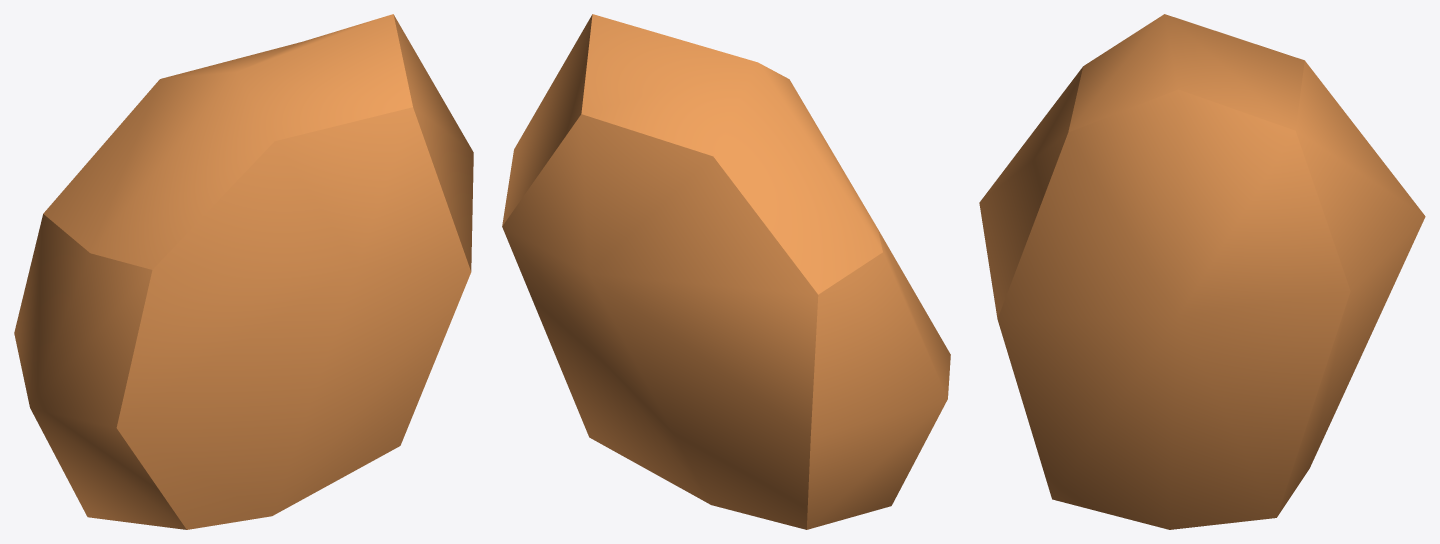
File: SM_SmallRock_2.FBX
3 views of the same model, side by side, from view 1: azimuth 30°, elevation 25°; view 2: azimuth 150°, elevation 25°; view 3: azimuth 270°, elevation 25° (orthographic). The views are drawn at different scales.
Visible parts, largest first — view 1: Rock 2; view 2: Rock 2; view 3: Rock 2.
Boxes of the visible parts, x1,y1,x2,y2 form: Rock 2: [14, 14, 473, 529]; Rock 2: [502, 14, 950, 529]; Rock 2: [979, 14, 1425, 529].
Bounding box in the file's own units: 51.06 × 47.53 × 38.69.
